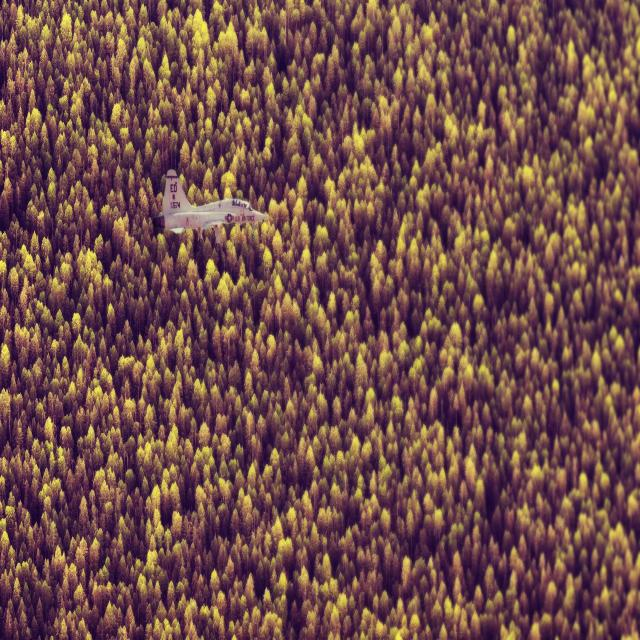airplane: (152, 168, 268, 246)
